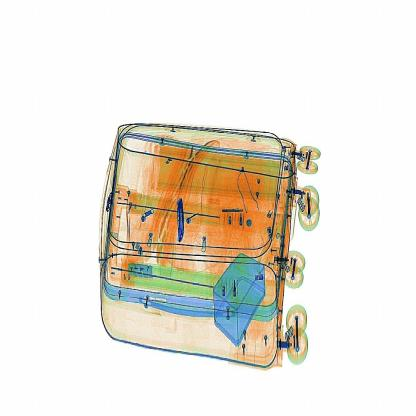knife: (170, 189, 196, 250)
